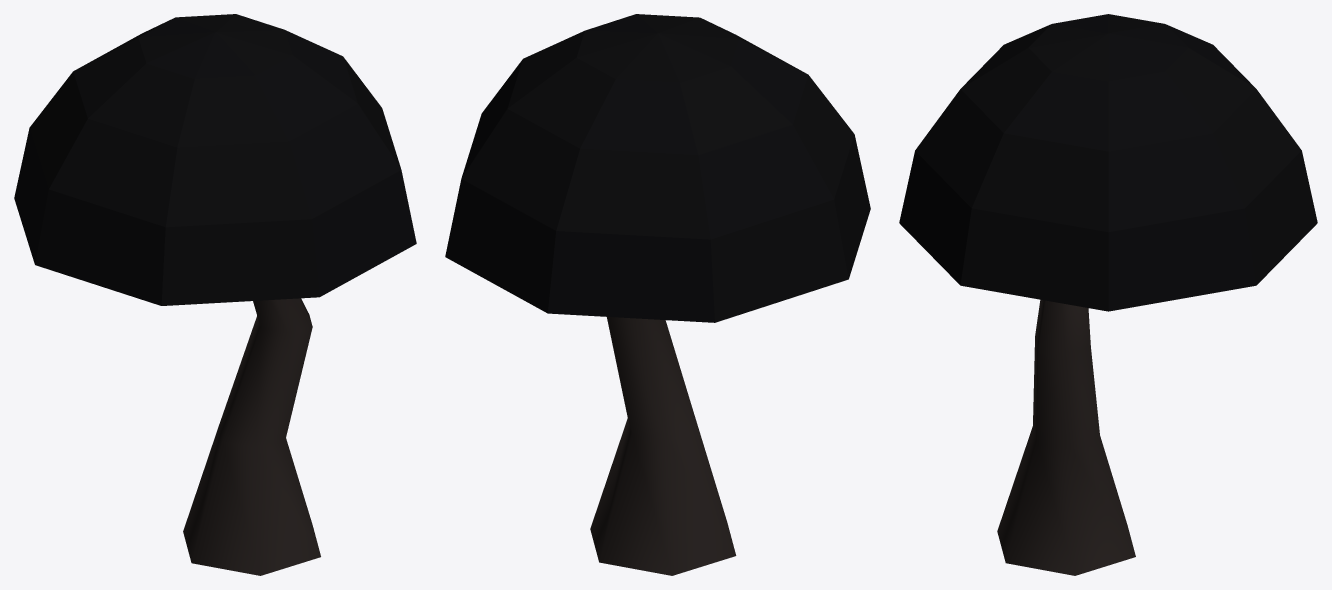
The model's file is MM_Plant_C_Bad.fbx.
3 views of the same model, side by side, from view 1: azimuth 30°, elevation 25°; view 2: azimuth 150°, elevation 25°; view 3: azimuth 270°, elevation 25° (orthographic). The views are drawn at different scales.
Visible parts, largest first — view 1: Cylinder.011; view 2: Cylinder.011; view 3: Cylinder.011.
Boxes of the visible parts, box(x1,y1,x2,y2) form: Cylinder.011: box(14, 14, 416, 575); Cylinder.011: box(445, 14, 870, 575); Cylinder.011: box(899, 14, 1317, 575).
Bounding box in the file's own units: 20.86 × 27.65 × 20.86.
